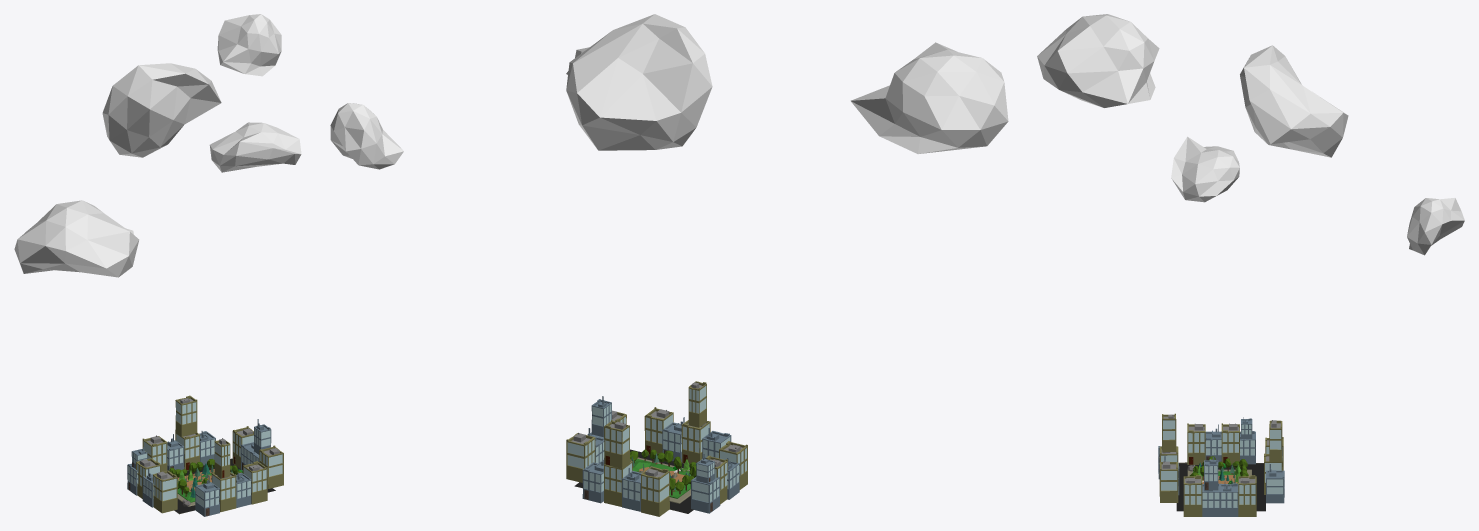
Rendered from Reflect.Park-Rescaledv2.0.fbx.
3 views of the same model, side by side, from view 1: azimuth 30°, elevation 25°; view 2: azimuth 150°, elevation 25°; view 3: azimuth 270°, elevation 25° (orthographic). The views are drawn at different scales.
Visible parts, largest first — view 1: Icosphere.003, Icosphere.002, Icosphere, Icosphere.001, Building_1.002, Building_1.018, Building_1.015, Building_1.010, Building_1.011, S.Building_01, S.Building_02, Building_1.007 (+9 smaller); view 2: Icosphere.003, Icosphere.002, Icosphere.001, Building_1.007, Building_1.004, Building_1.018, Building_1.011, S.Building_01, Building_1, S.Building_02, Building_1.006, Building_1.017; view 3: Icosphere.002, Icosphere.003, Icosphere, Icosphere.001, Street_level, Building_1.015, Building_1.011, Building_1.004, Building_1.002, Building_1.009, Building_1.006, Building_1.003 (+4 smaller).
Boxes of the visible parts, x1,y1,x2,y2 form: Icosphere.003: (102, 63, 221, 157); Icosphere.002: (14, 200, 139, 277); Icosphere: (209, 122, 301, 172); Icosphere.001: (217, 14, 281, 76); Building_1.002: (153, 470, 177, 513); Building_1.018: (175, 395, 197, 436); Building_1.015: (259, 445, 283, 488); Building_1.010: (195, 476, 219, 516); Building_1.011: (243, 461, 267, 504); S.Building_01: (211, 472, 236, 512); S.Building_02: (214, 438, 230, 478); Building_1.007: (142, 435, 167, 471); Icosphere.003: (566, 14, 712, 150); Icosphere.002: (850, 42, 1008, 153); Icosphere.001: (330, 103, 403, 169); Building_1.007: (641, 466, 669, 516); Building_1.004: (566, 432, 595, 482); Building_1.018: (604, 420, 629, 468); Building_1.011: (644, 407, 673, 455); S.Building_01: (681, 420, 710, 464); Building_1: (691, 476, 720, 513); S.Building_02: (688, 381, 706, 427); Building_1.006: (582, 458, 604, 503); Building_1.017: (604, 459, 632, 506); Icosphere.002: (1037, 14, 1159, 107); Icosphere.003: (1240, 45, 1348, 157); Icosphere: (1171, 136, 1239, 202); Icosphere.001: (1407, 198, 1464, 255); Street_level: (1176, 462, 1265, 511); Building_1.015: (1183, 475, 1202, 516); Building_1.011: (1159, 461, 1178, 502); Building_1.004: (1238, 475, 1256, 516); Building_1.002: (1187, 423, 1205, 464); Building_1.009: (1221, 423, 1240, 464); Building_1.006: (1266, 464, 1284, 503); Building_1.003: (1220, 481, 1238, 516).
Bounding box in the file's own units: 44696 × 42586 × 38888.
